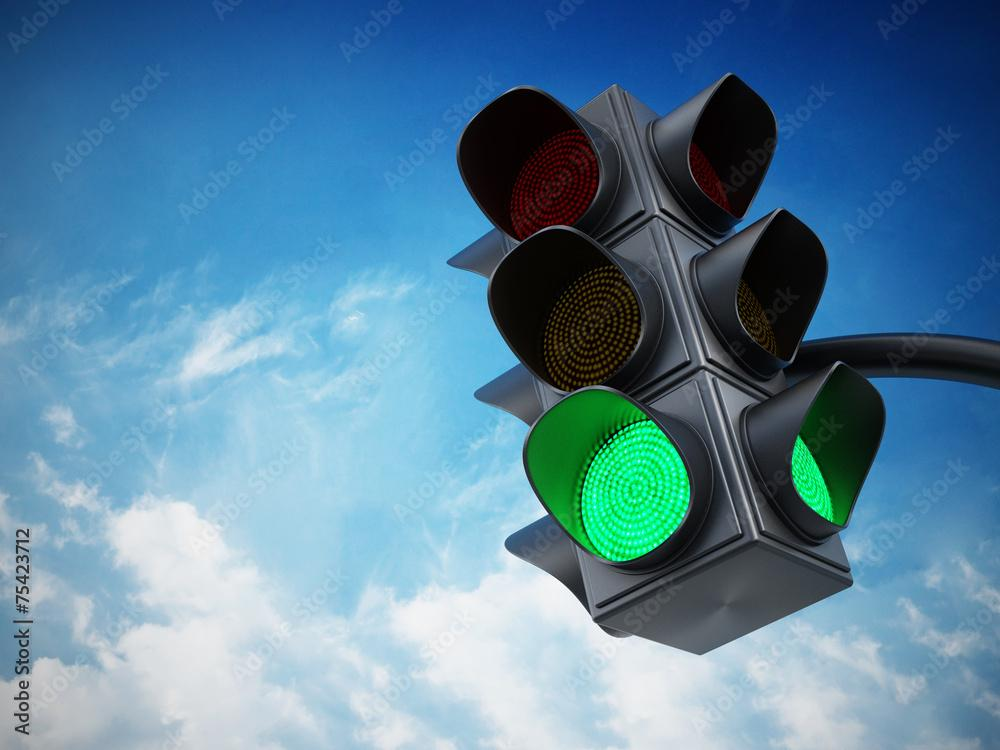Traffic light green: (450, 80, 724, 596)
